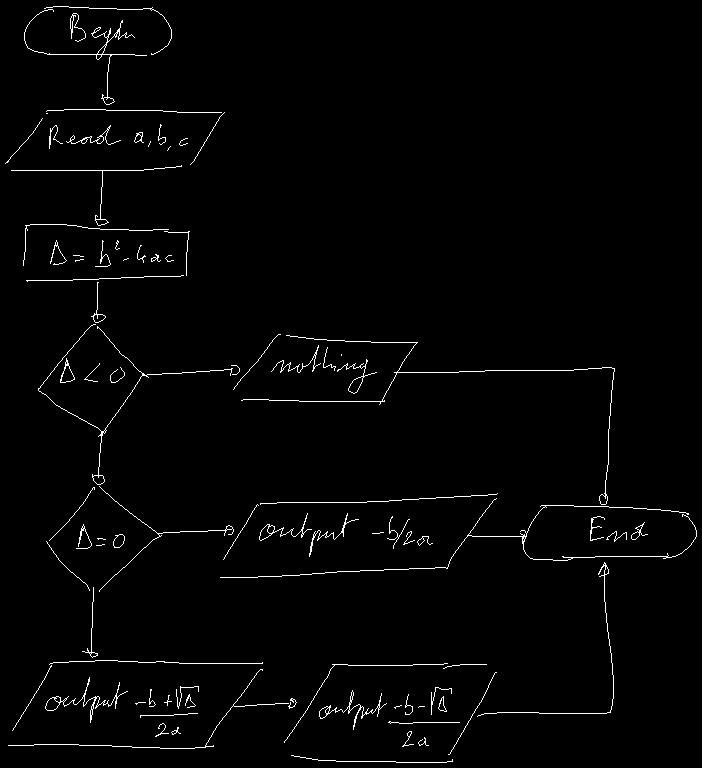arrow: (394, 367, 614, 504), (477, 562, 613, 716), (82, 587, 97, 657), (144, 365, 239, 375), (468, 530, 526, 544), (158, 525, 233, 535), (95, 170, 108, 225), (101, 55, 114, 104), (92, 431, 104, 484), (234, 698, 296, 708), (91, 282, 105, 322)
data: (220, 493, 497, 577), (8, 660, 262, 748), (284, 663, 496, 762), (5, 109, 224, 170), (233, 334, 417, 404)
decision: (38, 324, 148, 436), (46, 486, 161, 591)
process: (23, 224, 189, 281)
terminator: (523, 505, 696, 560), (24, 6, 171, 55)
text: (45, 677, 198, 736), (319, 687, 459, 746), (259, 513, 432, 556), (271, 345, 376, 393), (49, 124, 187, 150), (50, 240, 173, 266), (70, 13, 134, 59), (60, 358, 124, 382), (590, 516, 647, 541), (76, 524, 124, 548)
